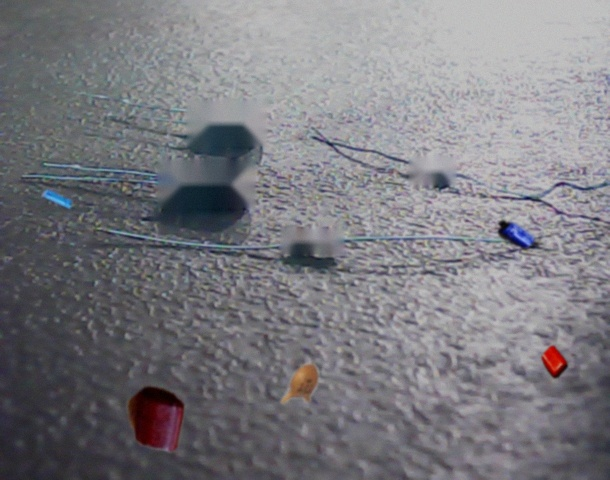capacitor: (127, 386, 184, 452), (281, 362, 319, 404), (498, 220, 535, 249), (542, 346, 568, 379), (41, 190, 72, 209)
